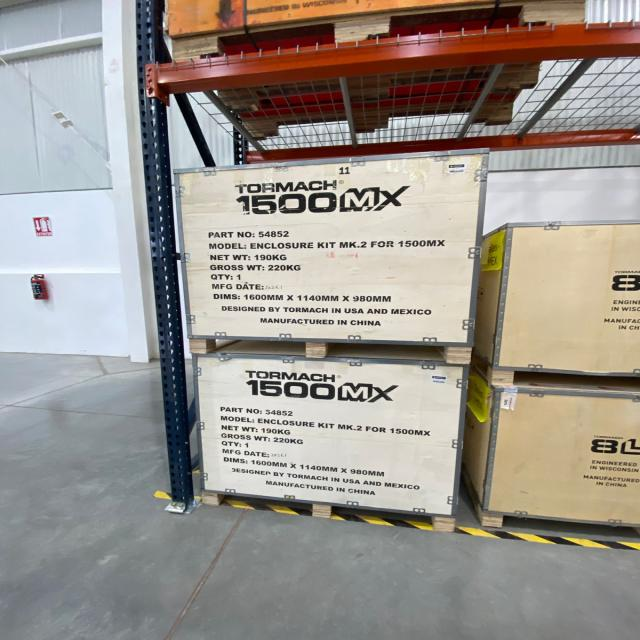encl1500: (174, 149, 488, 346), (194, 341, 468, 517)
